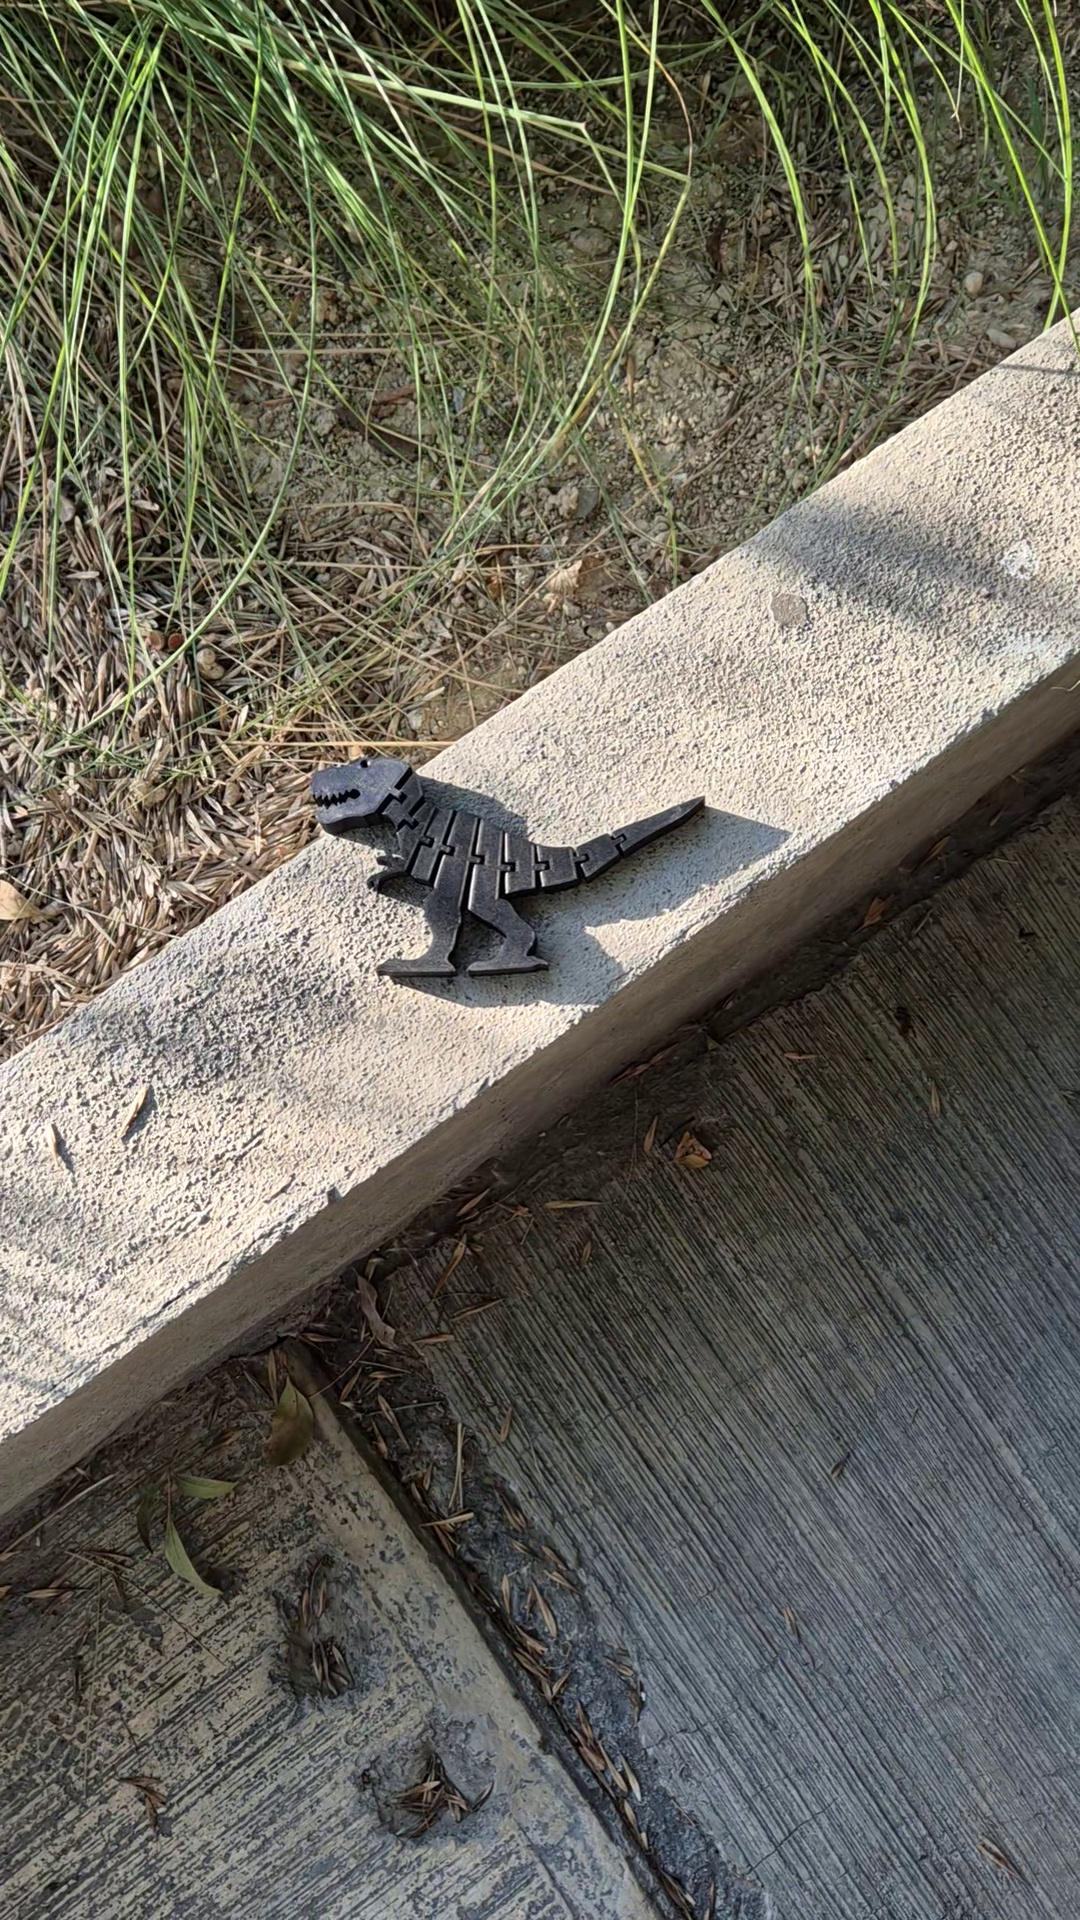dinosaur: (309, 753, 707, 980)
